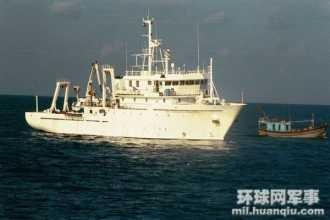otherboat: (12, 11, 249, 141), (254, 112, 327, 140)
